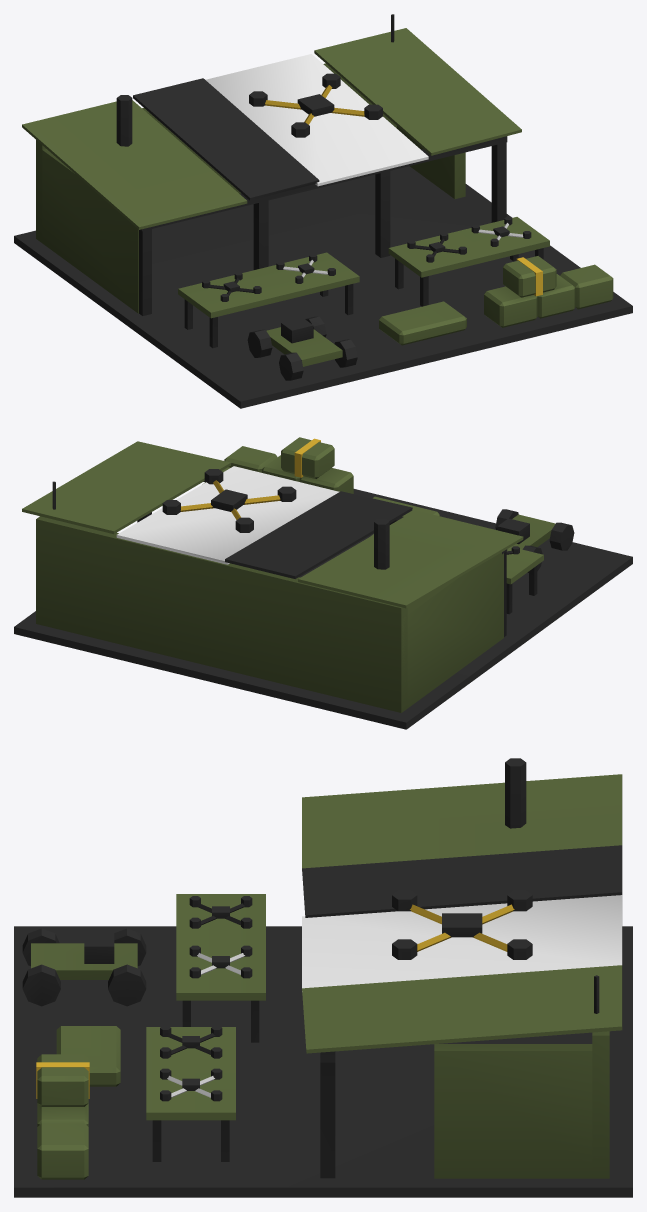
File: ua-drone-workshop.glb
3 renders of one model, top to bottom at view 1: azimuth 30°, elevation 25°; view 2: azimuth 150°, elevation 25°; view 3: azimuth 270°, elevation 25°, orthographic. The views are drawn at different scales.
Parts seen in each view (by area): view 1: ua-drone-workshop; view 2: ua-drone-workshop; view 3: ua-drone-workshop.
Part boxes in pixels (x1=…): ua-drone-workshop: x1=14, y1=14, x2=632, y2=408; ua-drone-workshop: x1=14, y1=437, x2=632, y2=729; ua-drone-workshop: x1=14, y1=758, x2=632, y2=1197.
Size of the model in its own units: 2.9 by 1.13 by 2.9.
